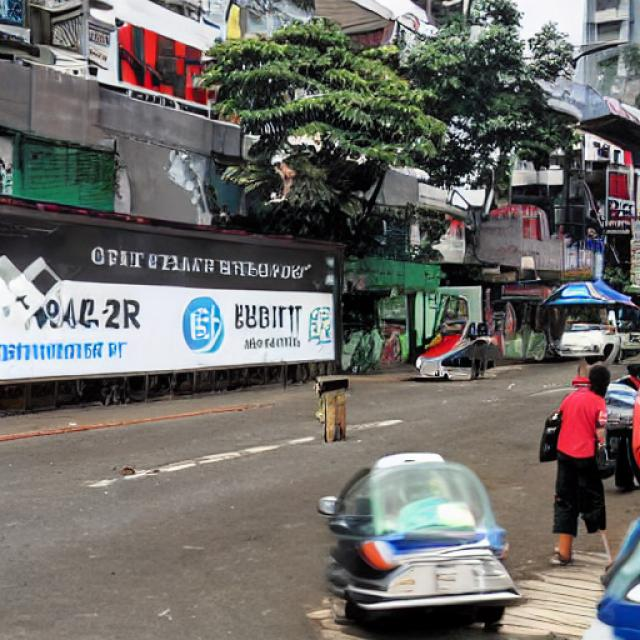Billboard: (0, 216, 338, 392)
